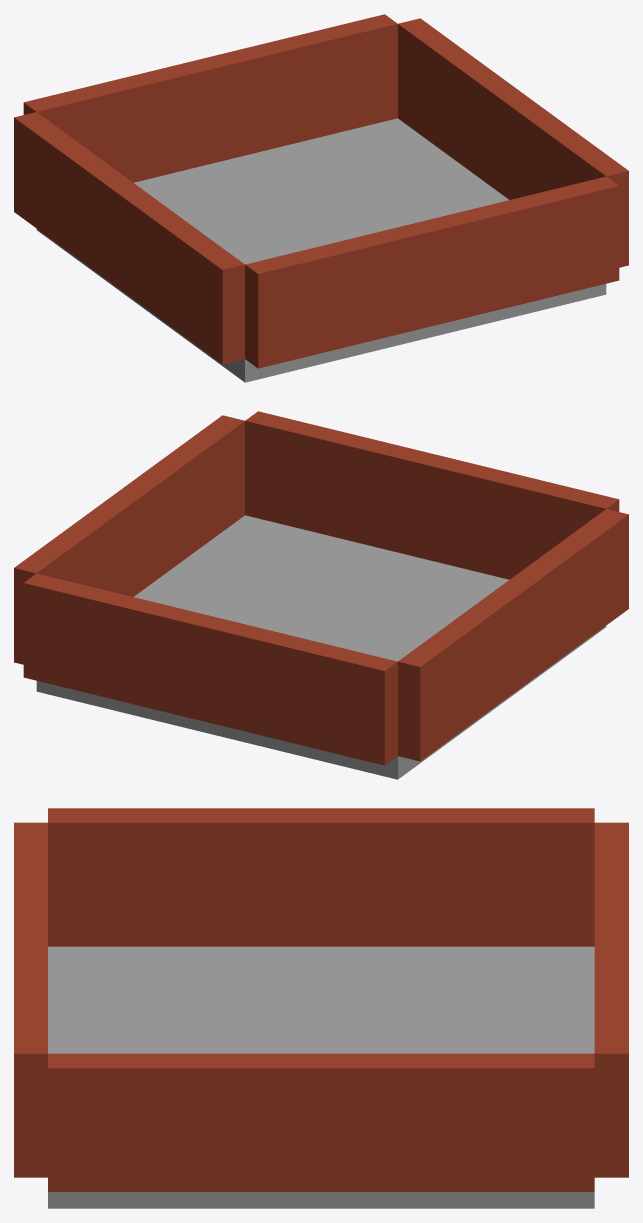
Rendered from mapTestingOBJ.obj.
The picture shows the model from 3 angles, top to bottom: view 1: azimuth 30°, elevation 25°; view 2: azimuth 150°, elevation 25°; view 3: azimuth 270°, elevation 25°; orthographic projection. The views are drawn at different scales.
Visible parts, largest first — view 1: Cube.002_Cube.001, Cube.003_Cube.005, Cube.001_Cube.002, Cube.004_Cube.003, Cube.005_Cube.004; view 2: Cube.003_Cube.005, Cube.002_Cube.001, Cube.001_Cube.002, Cube.004_Cube.003, Cube.005_Cube.004; view 3: Cube.005_Cube.004, Cube.004_Cube.003, Cube.001_Cube.002, Cube.003_Cube.005, Cube.002_Cube.001.
Part boxes in pixels (<box>): Cube.002_Cube.001: <box>245,176,619,368</box>; Cube.003_Cube.005: <box>23,14,397,182</box>; Cube.001_Cube.002: <box>36,118,606,382</box>; Cube.004_Cube.003: <box>14,112,244,364</box>; Cube.005_Cube.004: <box>398,18,628,267</box>; Cube.003_Cube.005: <box>23,573,397,765</box>; Cube.002_Cube.001: <box>245,411,619,579</box>; Cube.001_Cube.002: <box>36,515,606,779</box>; Cube.004_Cube.003: <box>398,509,628,761</box>; Cube.005_Cube.004: <box>14,415,244,664</box>; Cube.005_Cube.004: <box>48,1053,594,1191</box>; Cube.004_Cube.003: <box>48,808,594,946</box>; Cube.001_Cube.002: <box>48,946,594,1208</box>; Cube.003_Cube.005: <box>594,822,628,1177</box>; Cube.002_Cube.001: <box>14,822,47,1177</box>.
Bounding box in the file's own units: 18 × 5 × 18.
